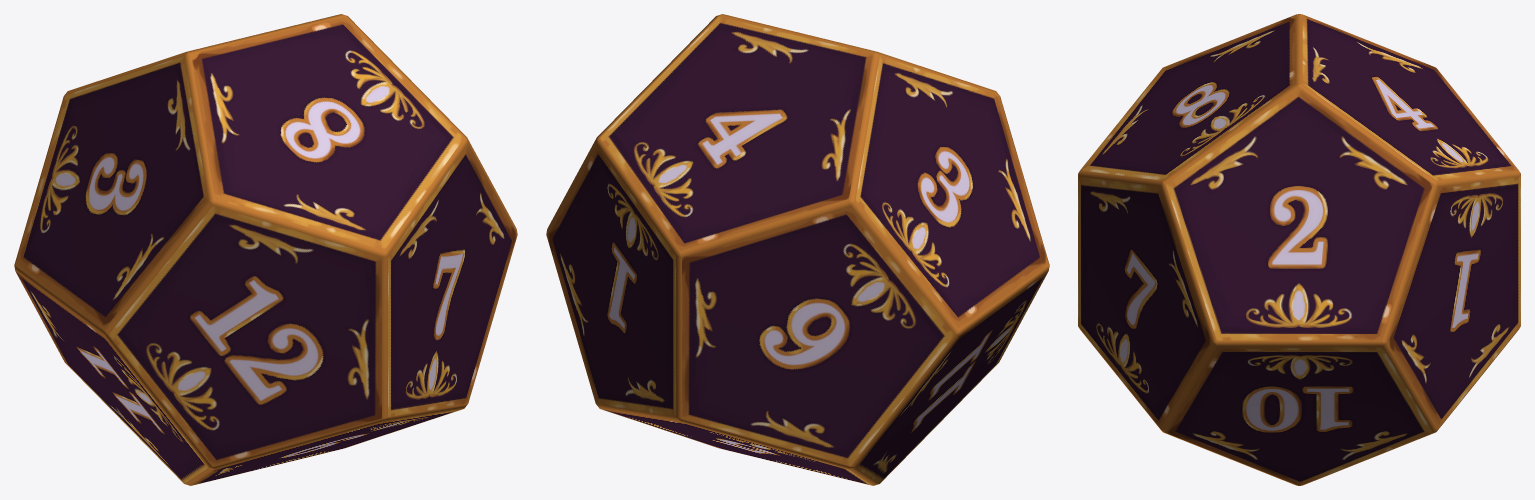
The model's file is d12-urikV2.glb.
3 renders of one model, left to right at view 1: azimuth 30°, elevation 25°; view 2: azimuth 150°, elevation 25°; view 3: azimuth 270°, elevation 25°, orthographic. The views are drawn at different scales.
Visible parts, largest first — view 1: Mesh_0; view 2: Mesh_0; view 3: Mesh_0.
Boxes of the visible parts, bbox=[...] form: Mesh_0: bbox=[14, 14, 517, 485]; Mesh_0: bbox=[546, 14, 1049, 485]; Mesh_0: bbox=[1078, 14, 1520, 485].
Bounding box in the file's own units: 167 × 167 × 167.
1 material, 1 textured.
